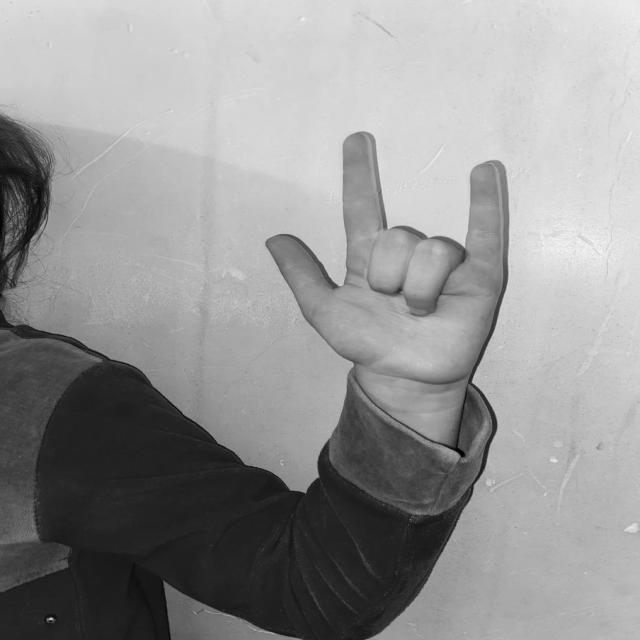i love you: (261, 125, 526, 404)
